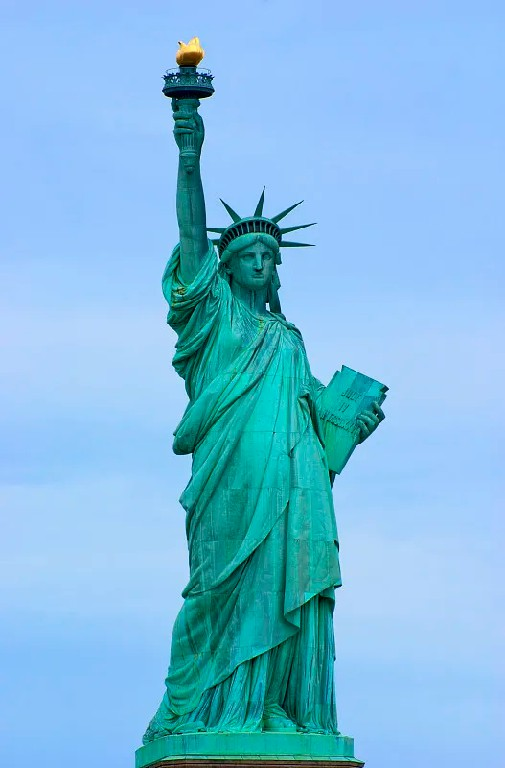SL: (135, 37, 389, 768)
